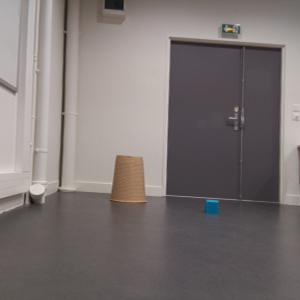medium: (107, 153, 149, 203)
small: (204, 198, 221, 217)
